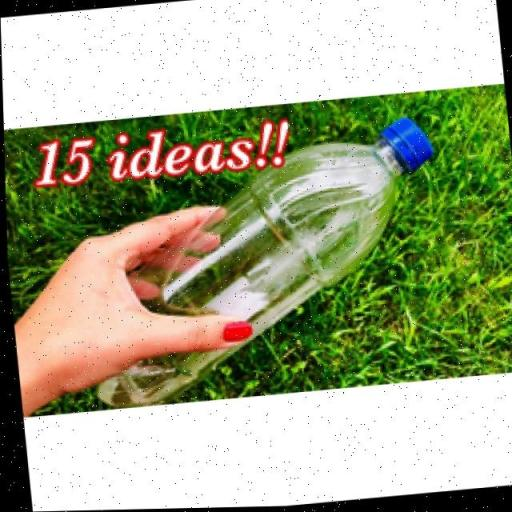plastic: (87, 116, 437, 410)
